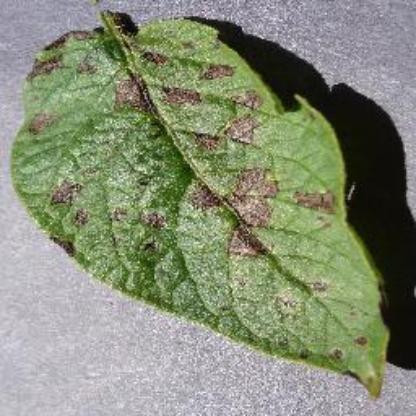Early-Blight: (14, 3, 410, 402)
